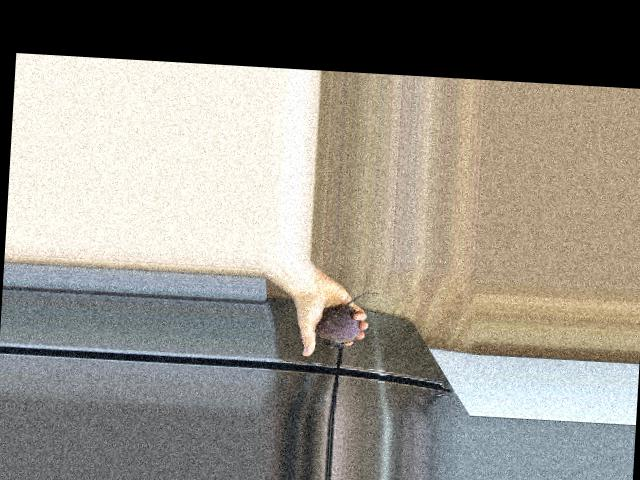beet: (315, 289, 381, 350)
